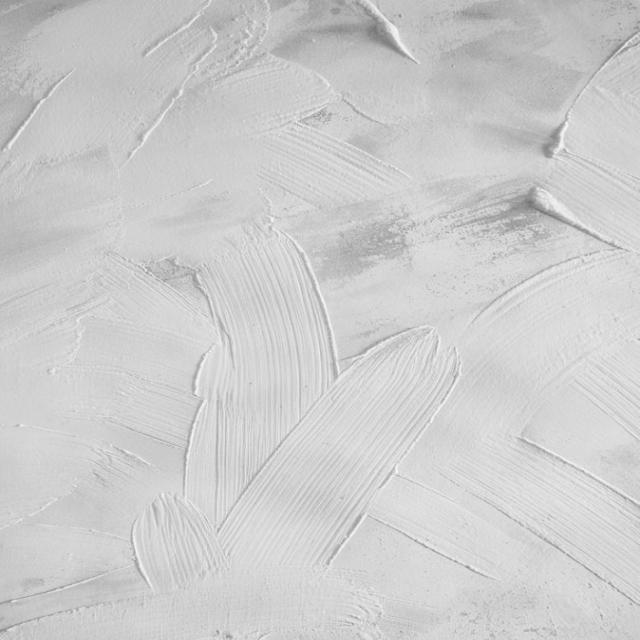trowels marks: (0, 0, 640, 636)
